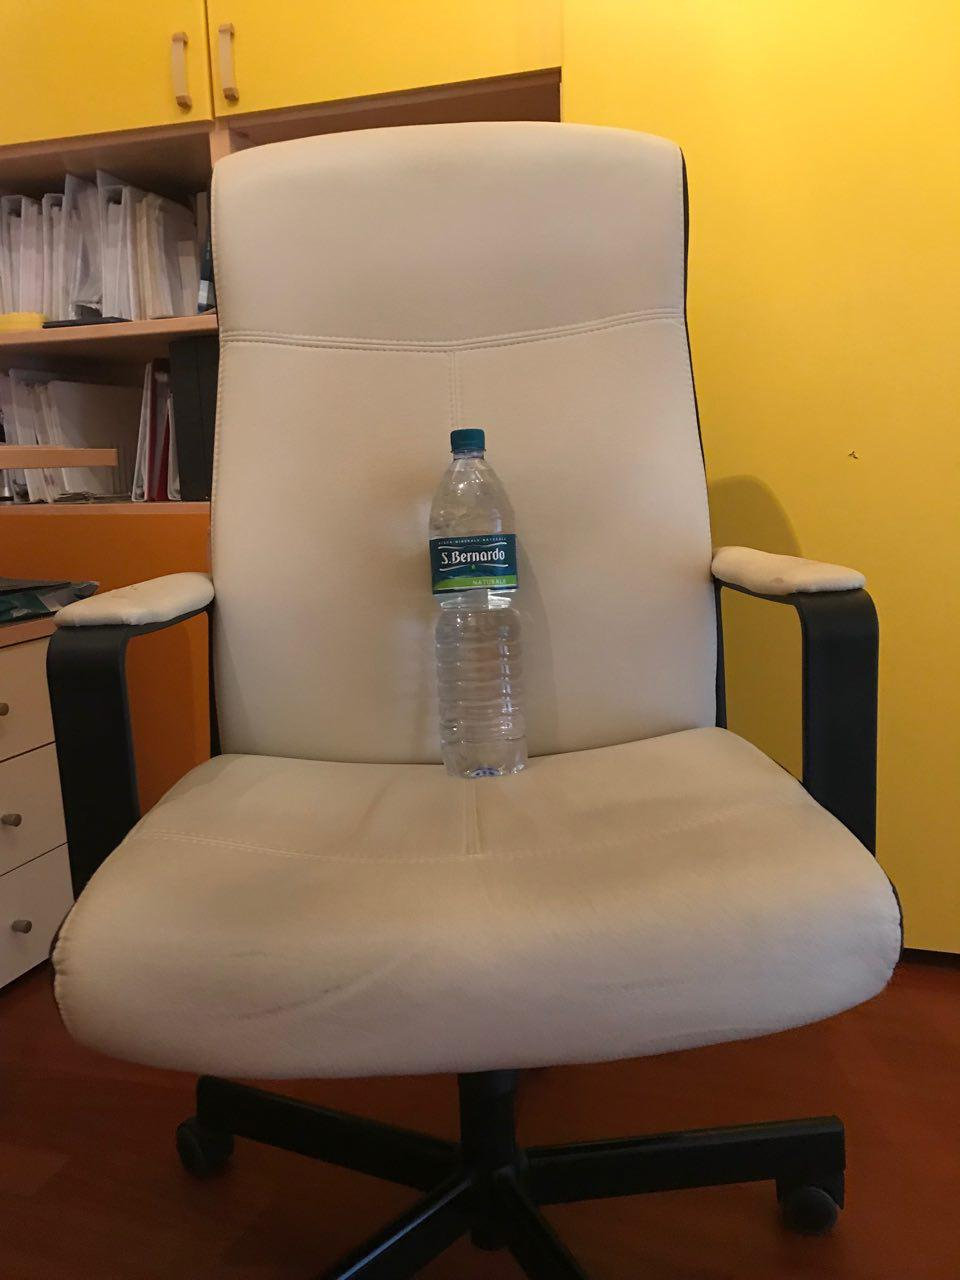san_bernardo: (429, 428, 527, 780)
